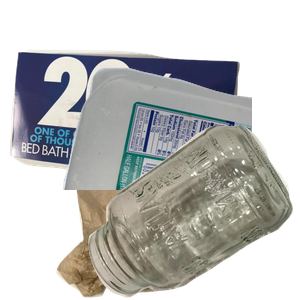glass: (86, 126, 300, 300)
paper: (10, 41, 242, 207)
plastic: (60, 65, 300, 245)
trash: (54, 147, 271, 300)
